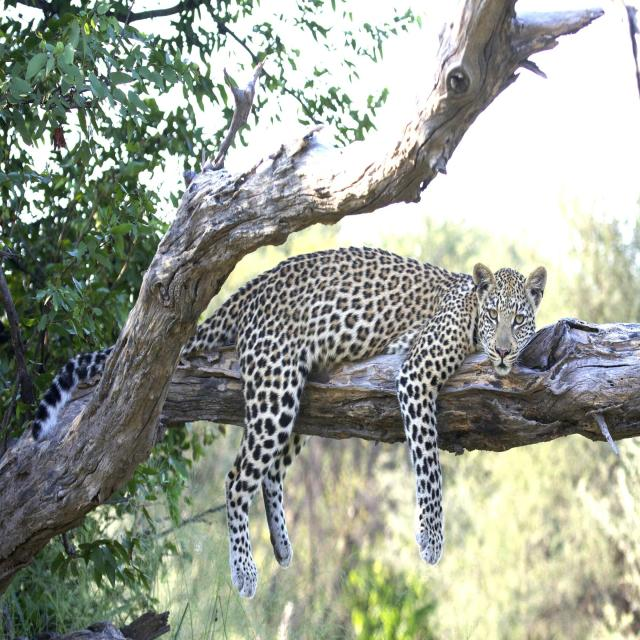Leopard: (82, 245, 532, 628)
